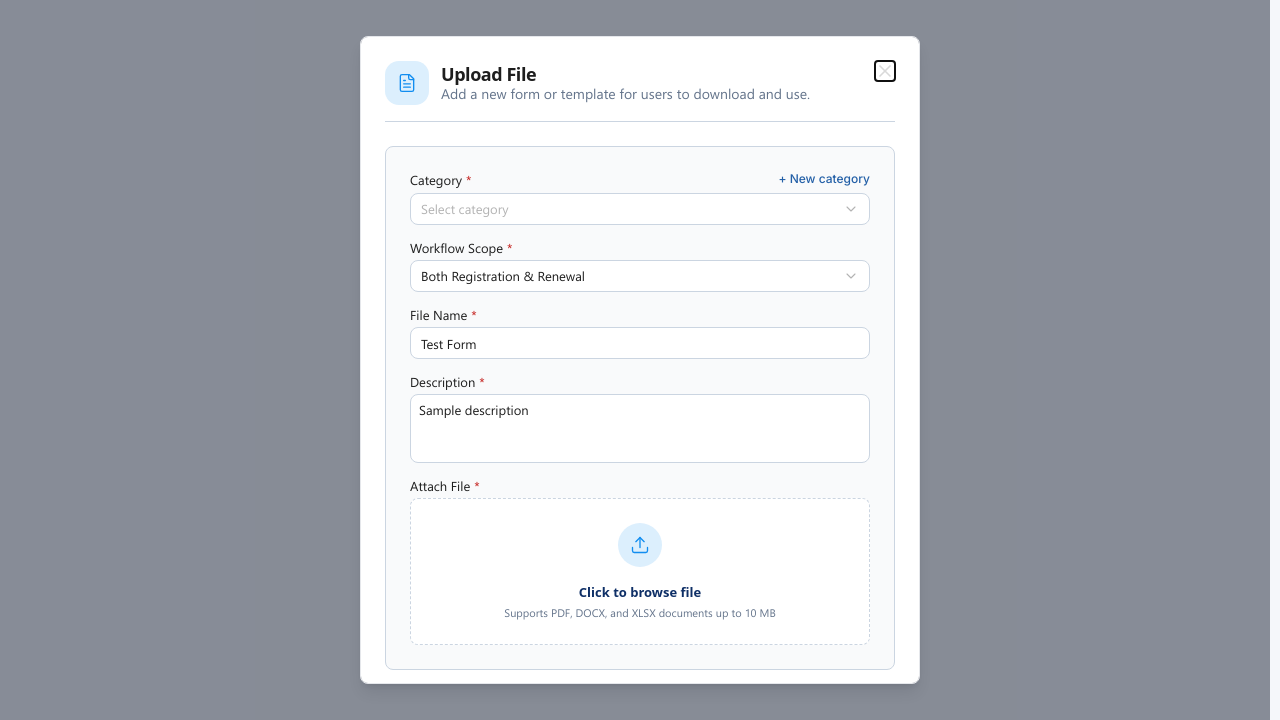
Scenario: Forms & Templates — Description Validation & Custom Category Lifecycle › UI Dialog & Category Dropdown Actions › does not select a standalone category when its server save fails
Click the button "+ New category". click: (824, 179)
box: 778,171 -> 870,187
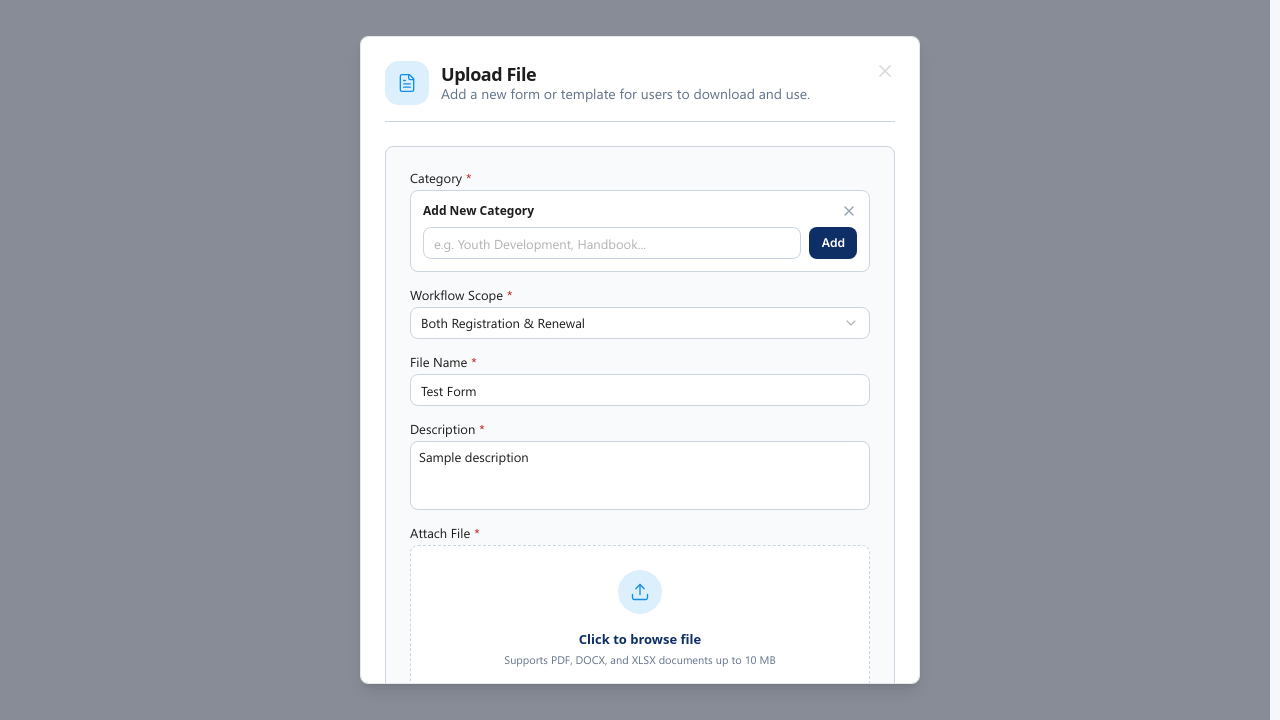
Type "Youth Leadership" into the field with placeholder "e.g. Youth Development, Handbook...". click: (612, 243)
box: 423,227 -> 802,259
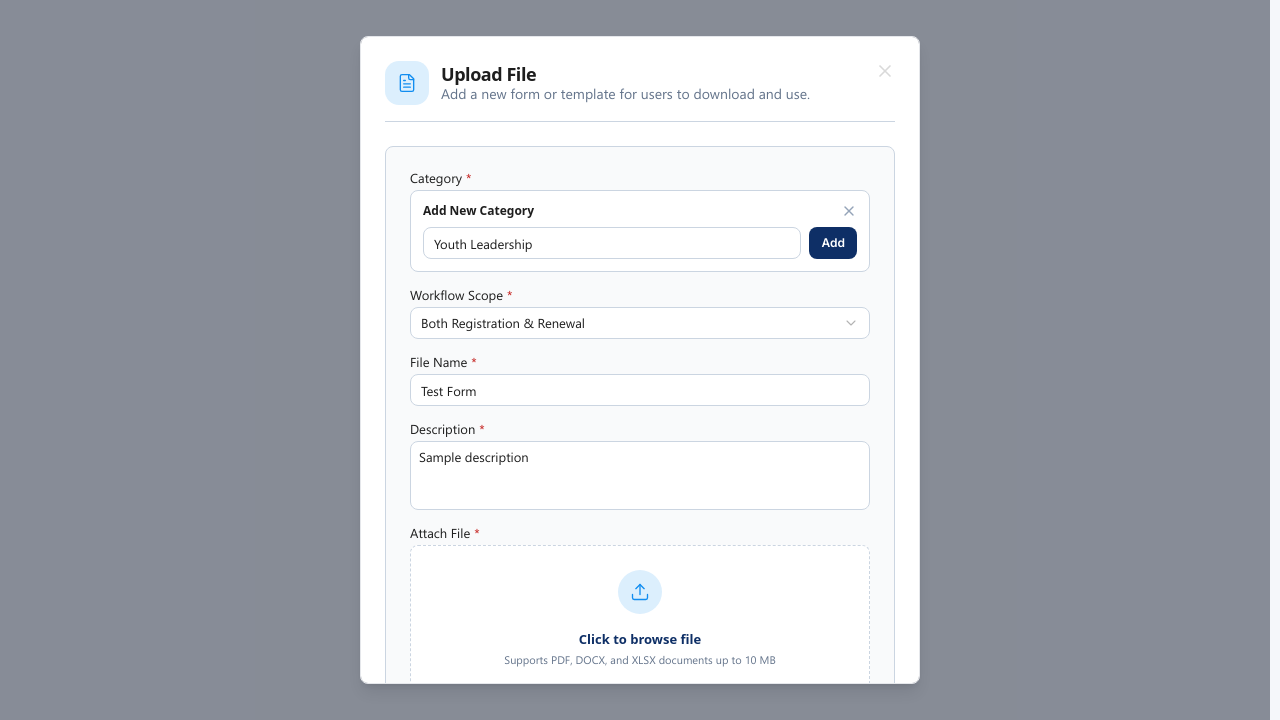
Click the button "Add". click: (833, 243)
box: 810,227 -> 857,259
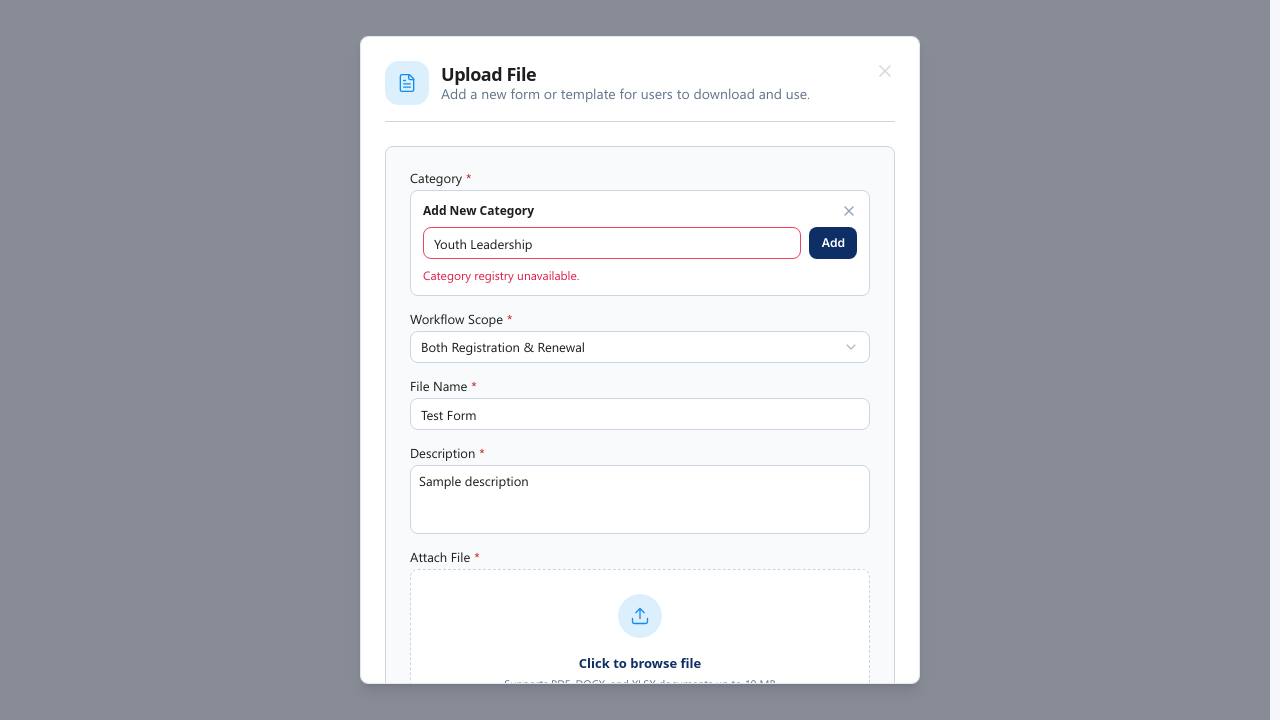
Check: the text "Category registry unavailable." is shown, box 423,267 -> 579,283
